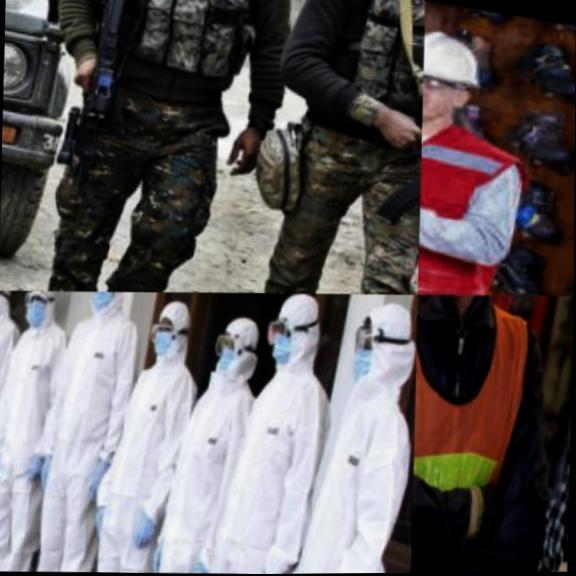safety_vest: (14, 301, 150, 573), (185, 357, 336, 575), (78, 345, 206, 574), (264, 379, 413, 574), (140, 363, 266, 574), (417, 98, 529, 295), (94, 0, 280, 117), (319, 0, 423, 175), (0, 319, 71, 572), (0, 313, 24, 570)
